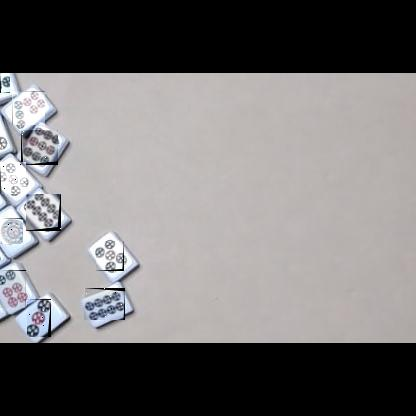1p: (0, 218, 23, 244)
3p: (27, 299, 51, 337)
4p: (0, 73, 10, 93)
5p: (96, 241, 124, 271), (0, 162, 26, 194)
6p: (0, 270, 26, 308)
7p: (12, 91, 45, 125)
8p: (84, 288, 125, 320), (26, 194, 61, 231)
9p: (21, 130, 58, 165)
